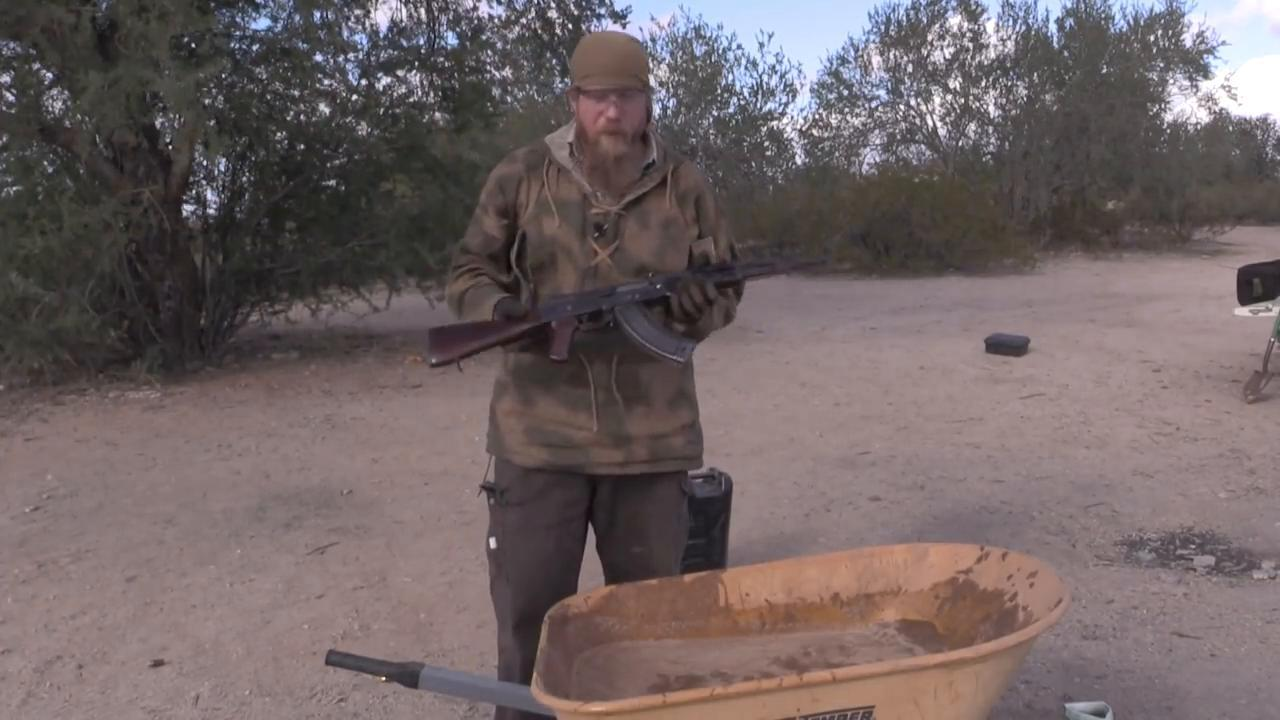AK47 Rifle: (423, 259, 833, 370)
